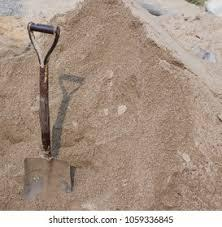sand: (114, 118, 141, 140), (83, 39, 111, 60), (115, 173, 139, 193), (174, 151, 198, 170), (155, 57, 173, 74)
